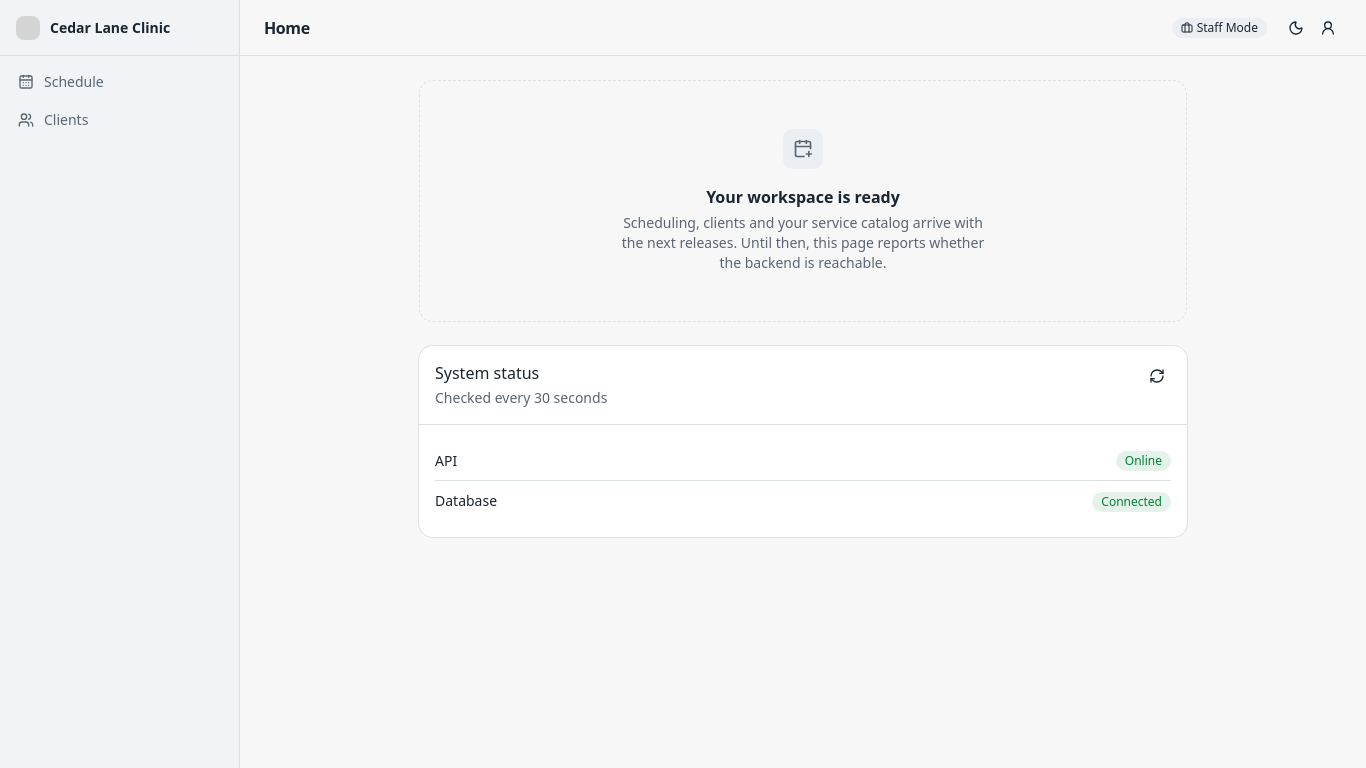
Test: the top bar names the signed-in account and logs it out
Click the button named "Account" at (1328, 28), box [1314, 14, 1342, 42]
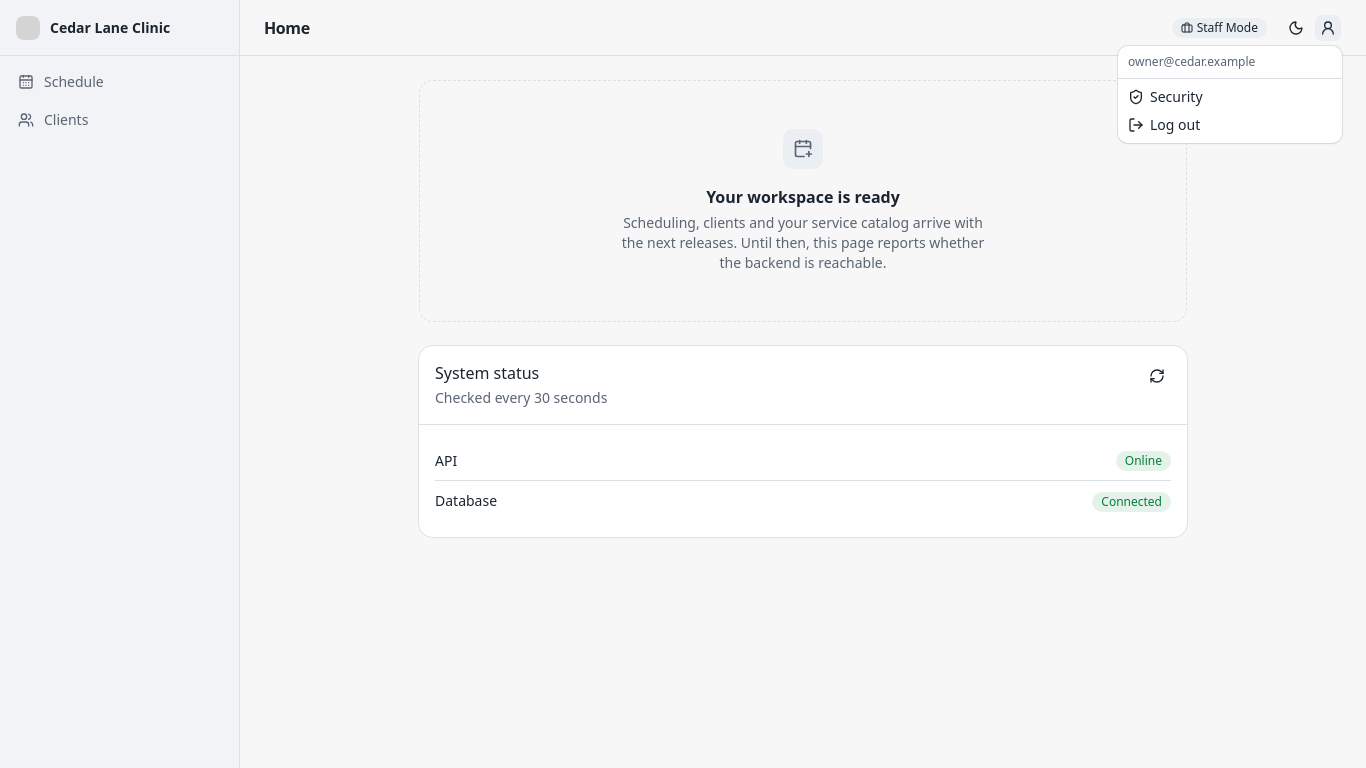
expect the menu shows "owner@cedar.example": met, box [1128, 53, 1255, 70]
Click the menu item "Log out" at (1164, 124), box [1128, 115, 1200, 134]
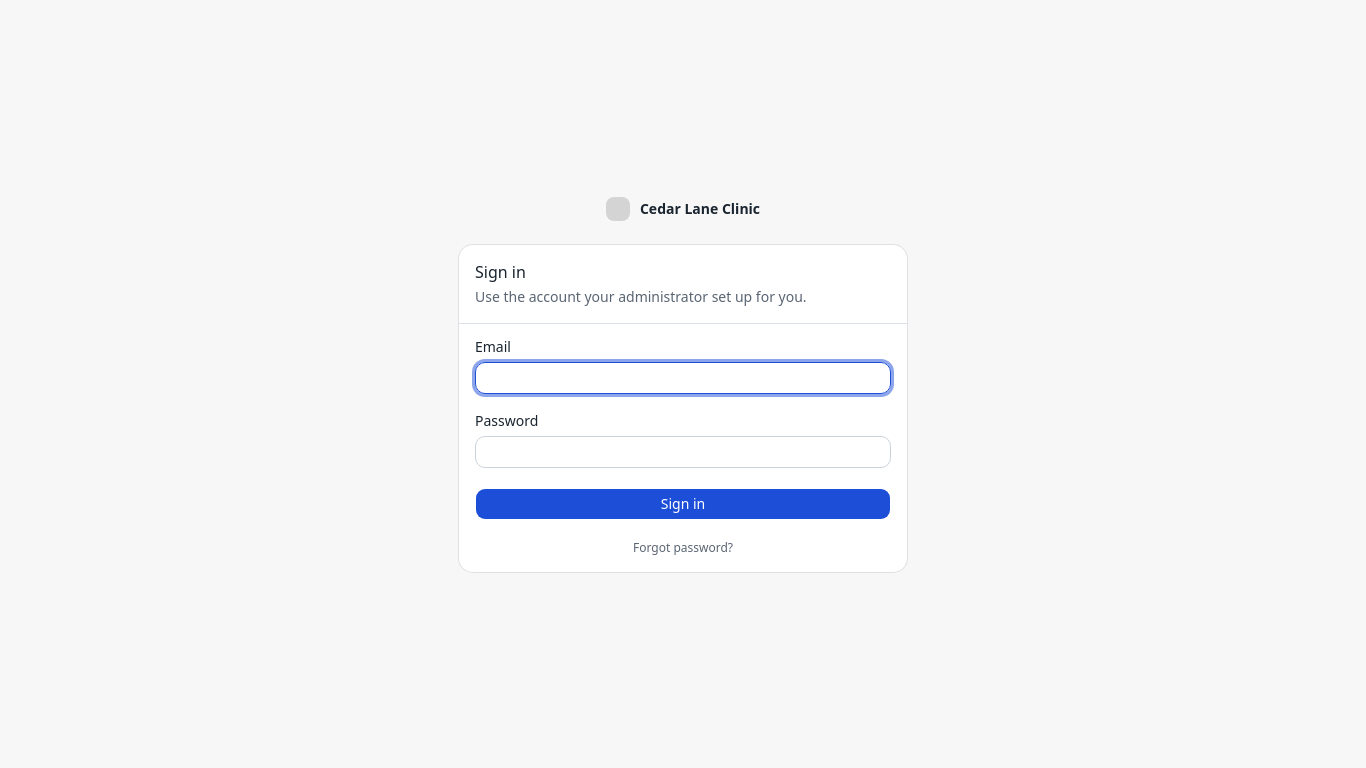
expect the button "Sign in" is shown: met, box [475, 488, 891, 520]
